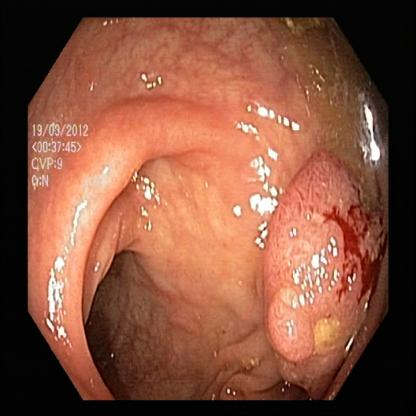Labels: (30, 112, 94, 192)
Polyps: (268, 156, 356, 362)
